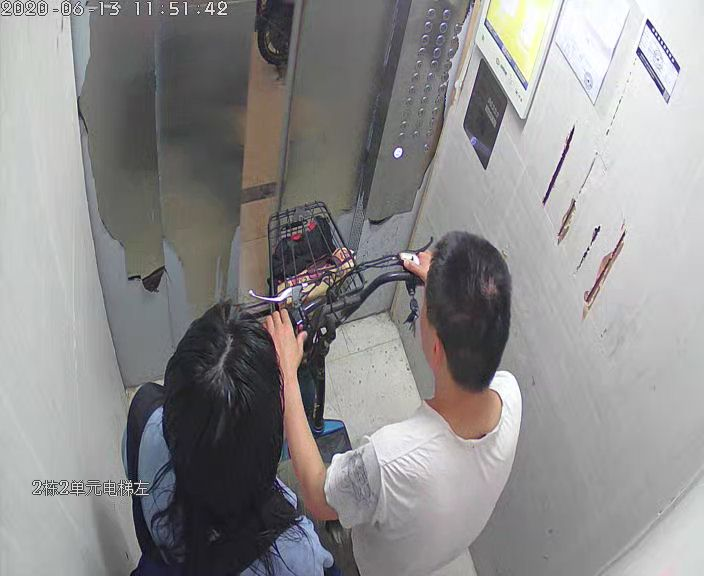Electric-bicycle: (252, 202, 438, 547)
